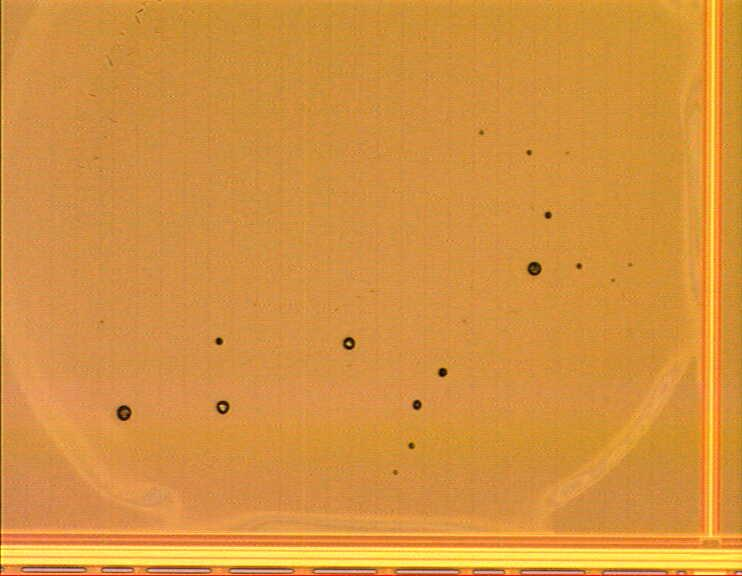PO CONTAMINATION: (114, 127, 636, 480)
